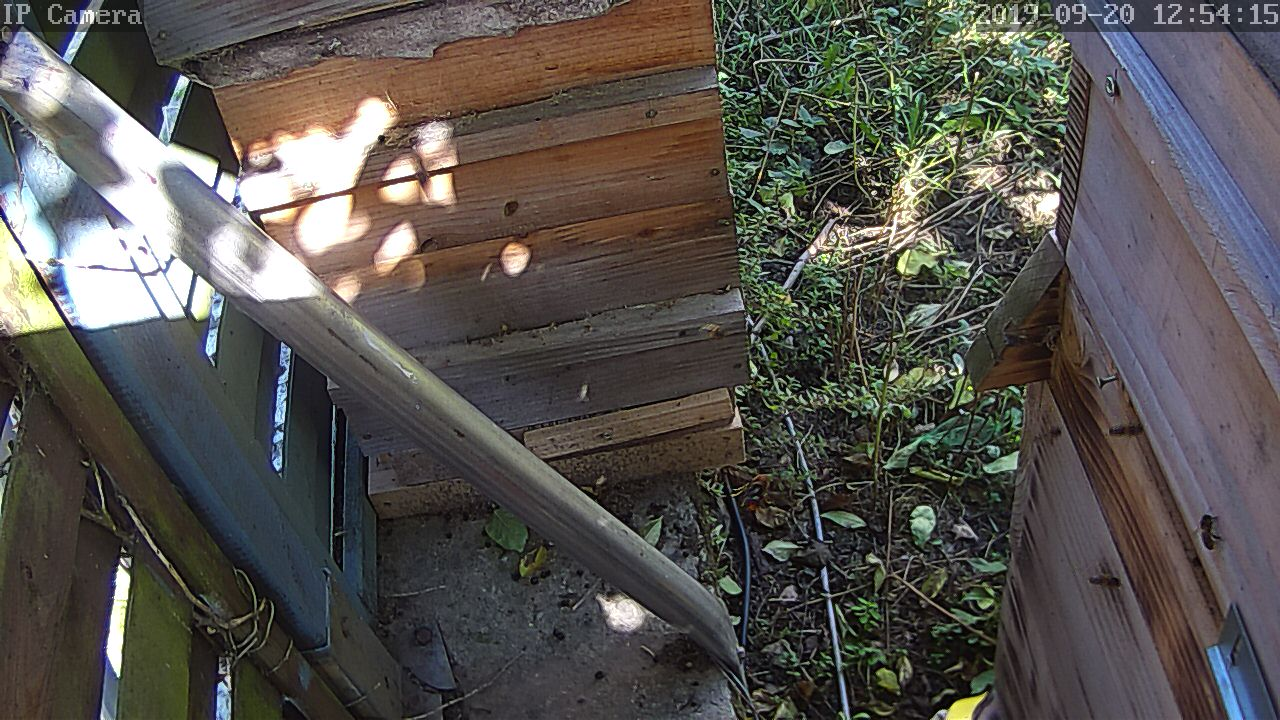bee: (1097, 413, 1148, 448), (1196, 509, 1230, 559), (1077, 563, 1120, 594)
